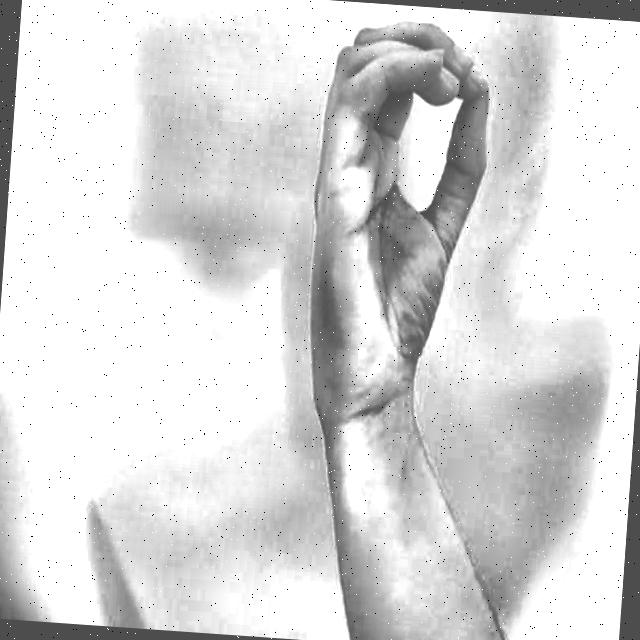O: (288, 2, 508, 470)
